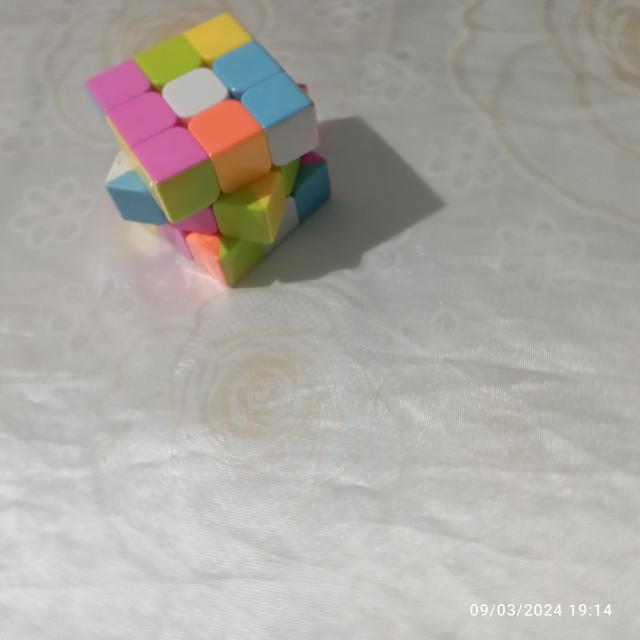Rub: (79, 8, 338, 294)
